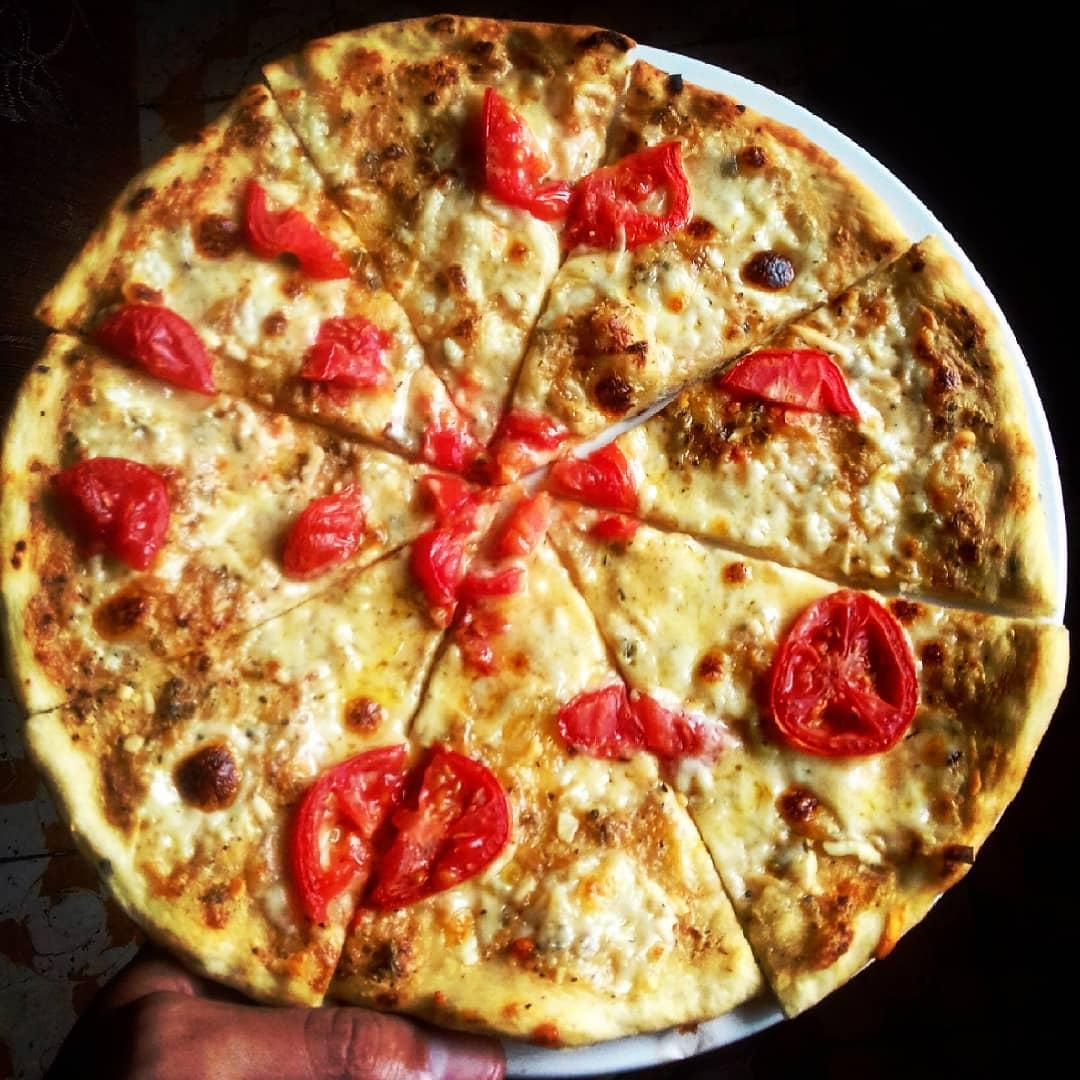Cheese: (189, 421, 273, 916), (656, 426, 906, 568), (81, 616, 241, 833), (389, 210, 554, 413), (519, 780, 697, 960), (696, 771, 900, 888), (572, 552, 760, 676), (252, 600, 412, 720), (543, 269, 676, 406), (700, 178, 823, 318), (351, 101, 466, 221), (399, 680, 545, 742), (225, 284, 292, 399), (844, 311, 910, 427), (510, 589, 600, 665), (156, 223, 237, 279)
Pizza: (6, 20, 1059, 1030)
Tomatoes: (764, 583, 922, 767), (362, 737, 512, 917), (413, 415, 510, 676), (284, 738, 412, 932), (50, 448, 178, 583), (561, 132, 692, 257), (559, 671, 706, 773), (88, 293, 222, 403), (707, 340, 863, 434), (475, 79, 577, 222), (238, 174, 349, 289), (550, 442, 644, 560), (296, 305, 405, 405), (497, 406, 562, 573), (274, 486, 374, 580)
